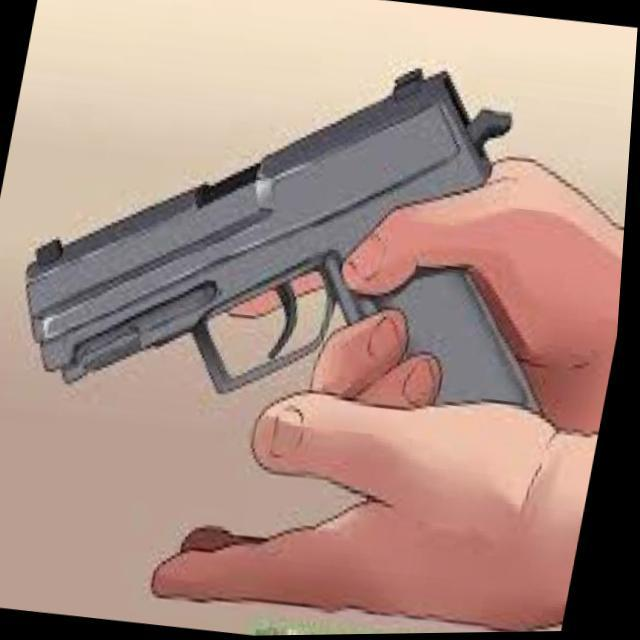weapon: (6, 19, 524, 432)
